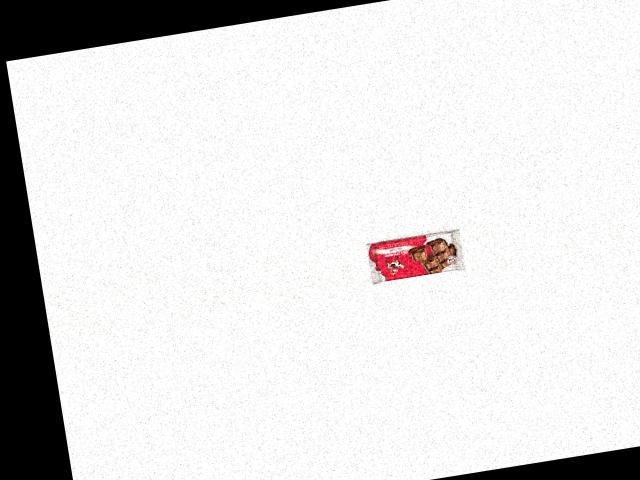chocolate: (362, 221, 468, 288)
